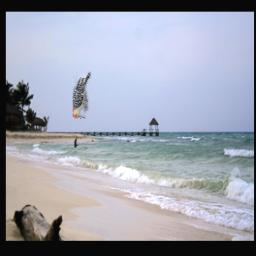Woodpecker: (72, 73, 90, 120)
